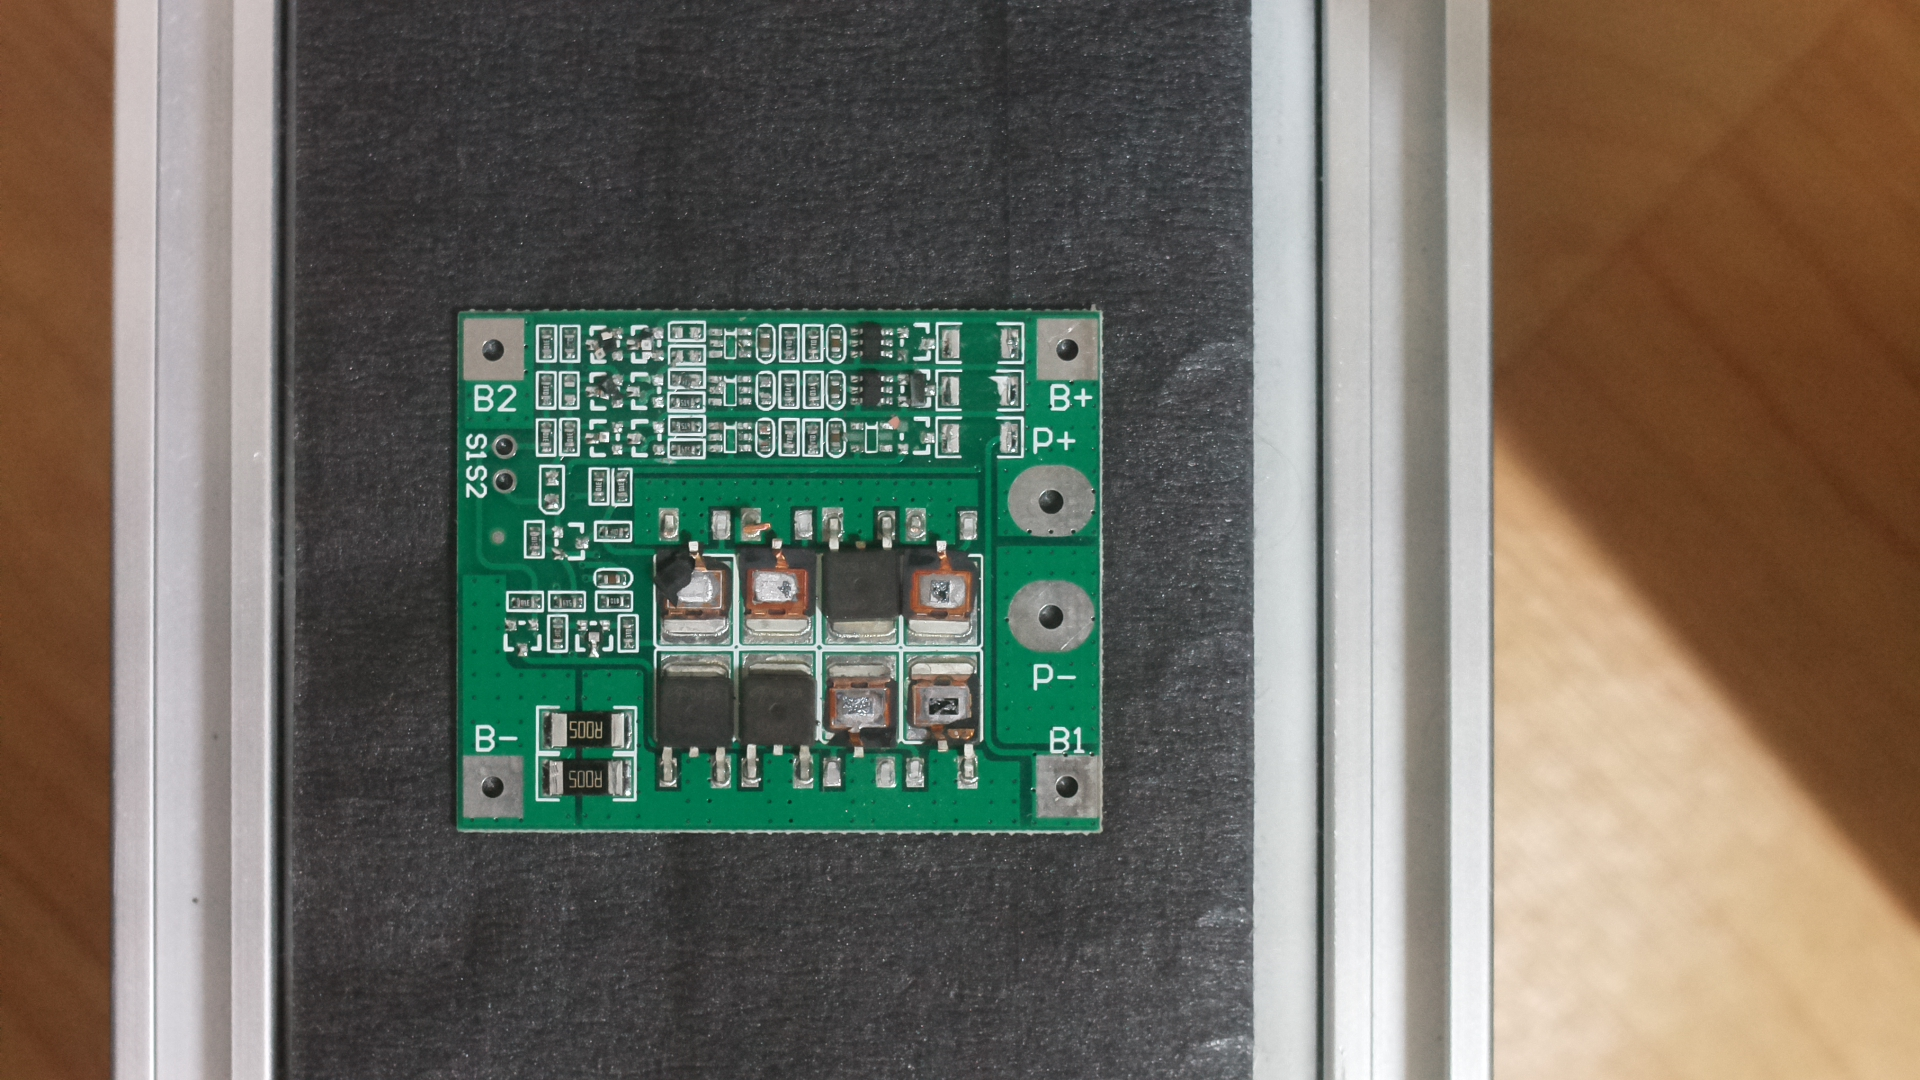C_Missing_part: (439, 290, 1113, 860)
